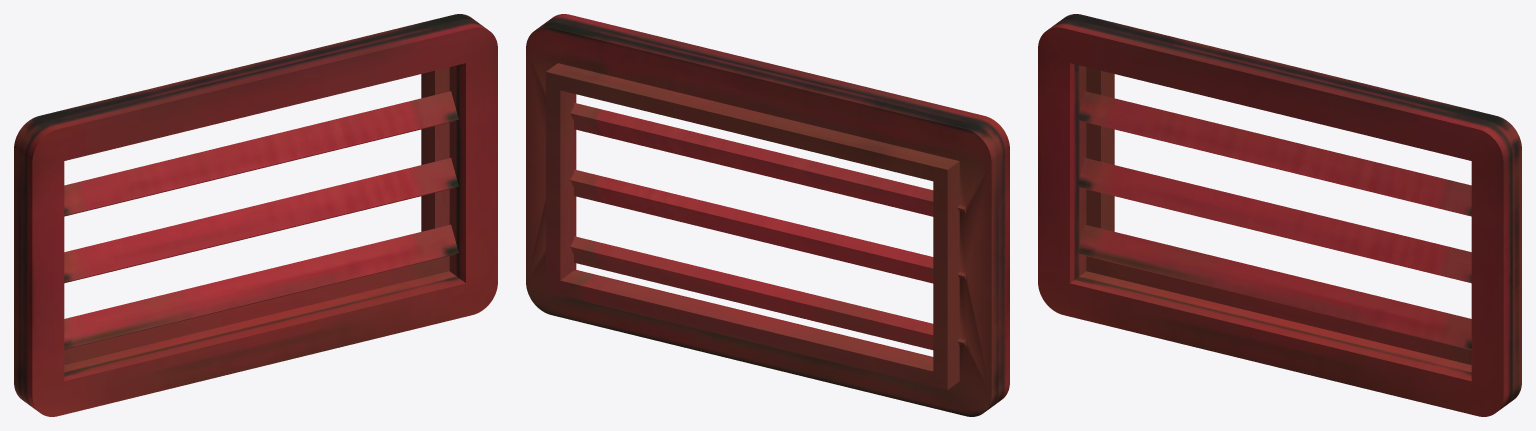
The model's file is tower_body__exhaust_grille.glb.
3 renders of one model, left to right at view 1: azimuth 30°, elevation 25°; view 2: azimuth 150°, elevation 25°; view 3: azimuth 330°, elevation 25°, orthographic.
Parts seen in each view (by area): view 1: geometry_0; view 2: geometry_0; view 3: geometry_0.
Boxes of the visible parts, box(x1,y1,x2,y2) form: geometry_0: box(14, 14, 497, 416); geometry_0: box(526, 14, 1009, 416); geometry_0: box(1038, 14, 1521, 416).
Bounding box in the file's own units: 0.146 × 0.086 × 0.0165.
1 material, 1 textured.
